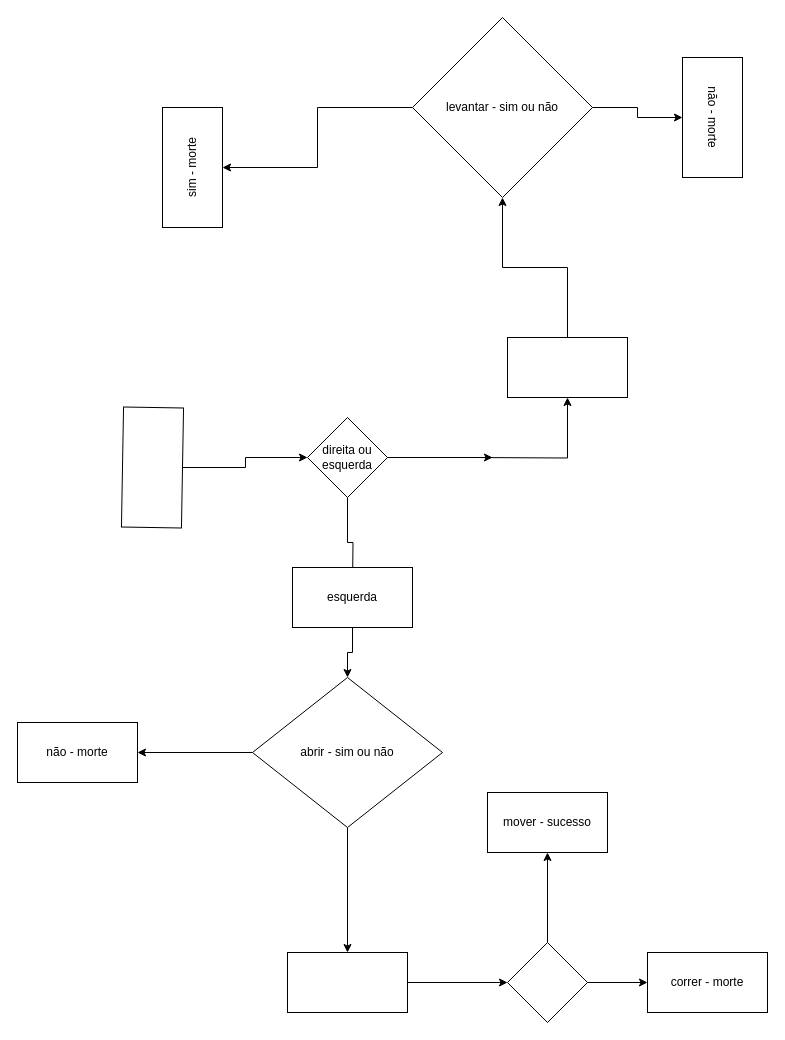
This 785x1040 diagram has some shape labels left out. Each missing label, with the centre of its shape:
"direita" goes at point (567, 367).
"mover ou correr" goes at point (547, 982).
"pt 1" goes at point (152, 467).
"sim" goes at point (347, 982).
